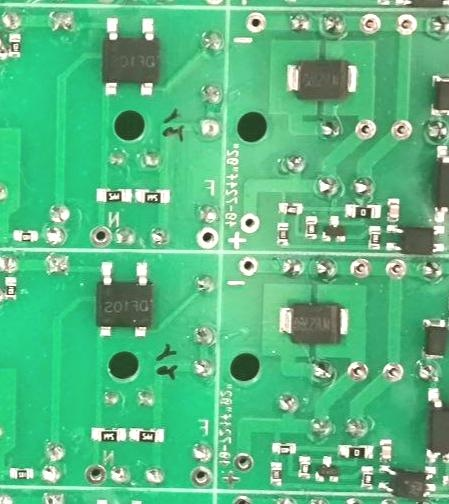chip-capacitor: (386, 197, 400, 224), (378, 438, 392, 464)
chip-resistor: (90, 425, 125, 443), (336, 444, 374, 460), (128, 427, 166, 443), (95, 188, 132, 204), (134, 189, 170, 205), (344, 204, 382, 219), (268, 460, 283, 488), (296, 454, 312, 480), (6, 32, 21, 59), (270, 441, 297, 456), (275, 222, 290, 248), (367, 225, 381, 251), (277, 201, 303, 215), (12, 229, 38, 243), (360, 465, 374, 491), (3, 276, 17, 302), (8, 466, 33, 480), (304, 215, 317, 240)
diode: (277, 302, 349, 346), (284, 58, 358, 100), (421, 318, 446, 361)
ic: (101, 15, 160, 97), (95, 260, 153, 339), (383, 223, 446, 253)
transistor: (319, 214, 347, 244), (313, 455, 339, 484)
